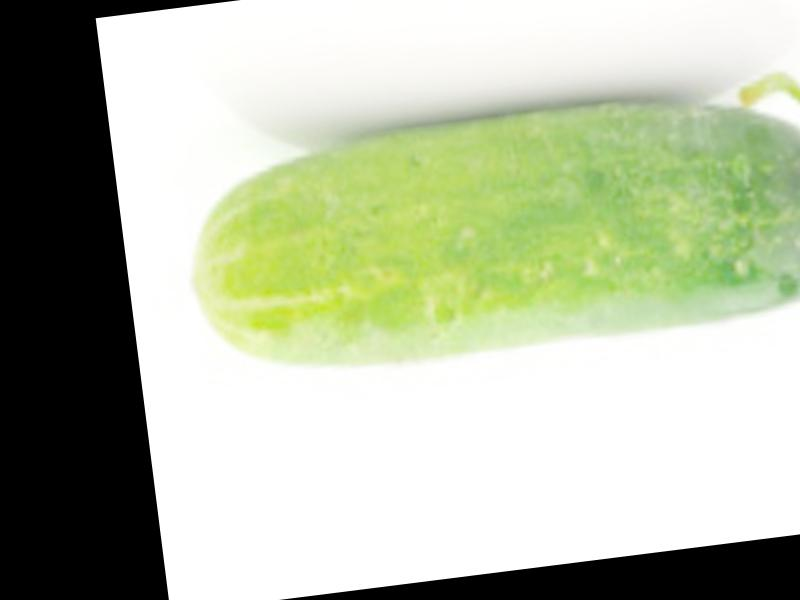Cucumber: (168, 64, 800, 388)
